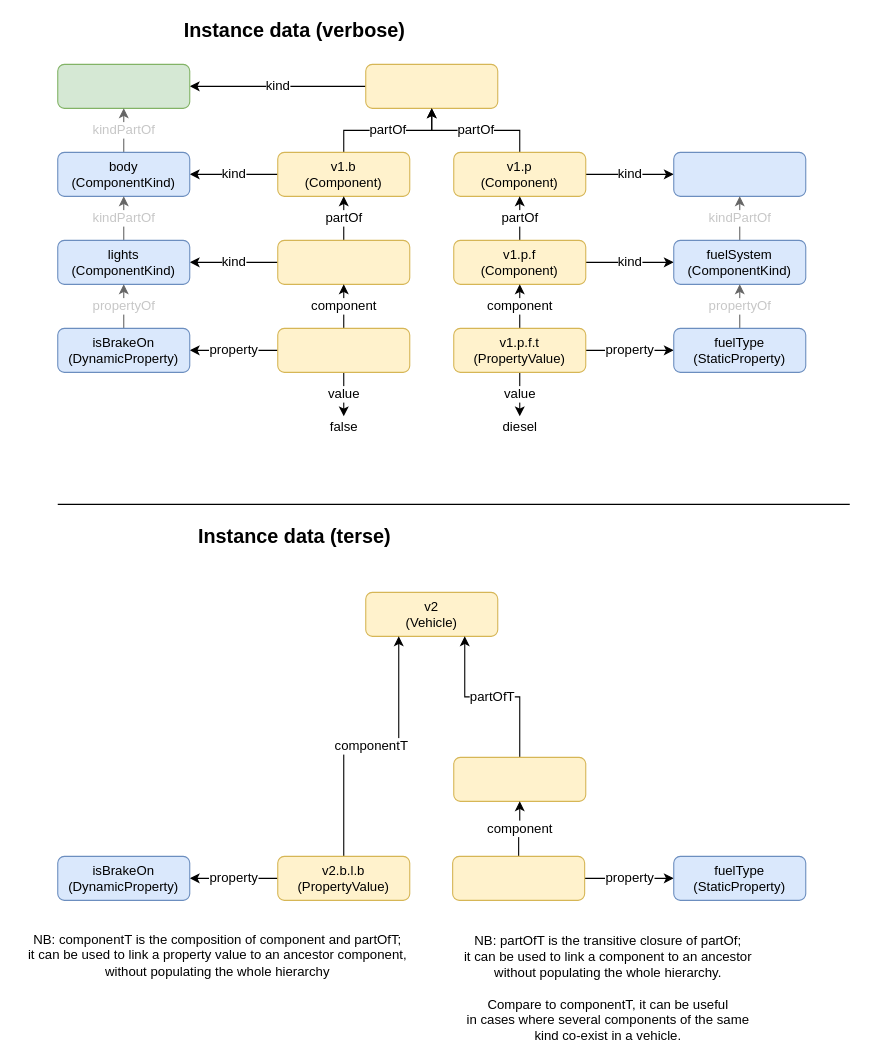
Image size: 870x1063. Some labels were removed from this diagram. Each missing label, with the centre of its shape:
"powertrain (ComponentKind)" belongs at point 739,173.
"v1 (Vehicle)" belongs at point 431,85.
"v1.b.l (Component)" belongs at point 343,261.
"v1.b.l.b (PropertyValue)" belongs at point 343,349.
"v2.p.f1 (Component)" belongs at point 519,778.
"v2.p.f1.t (PropertyValue)" belongs at point 518,877.
"wholeVehicle (ComponentKind)" belongs at point 123,85.
